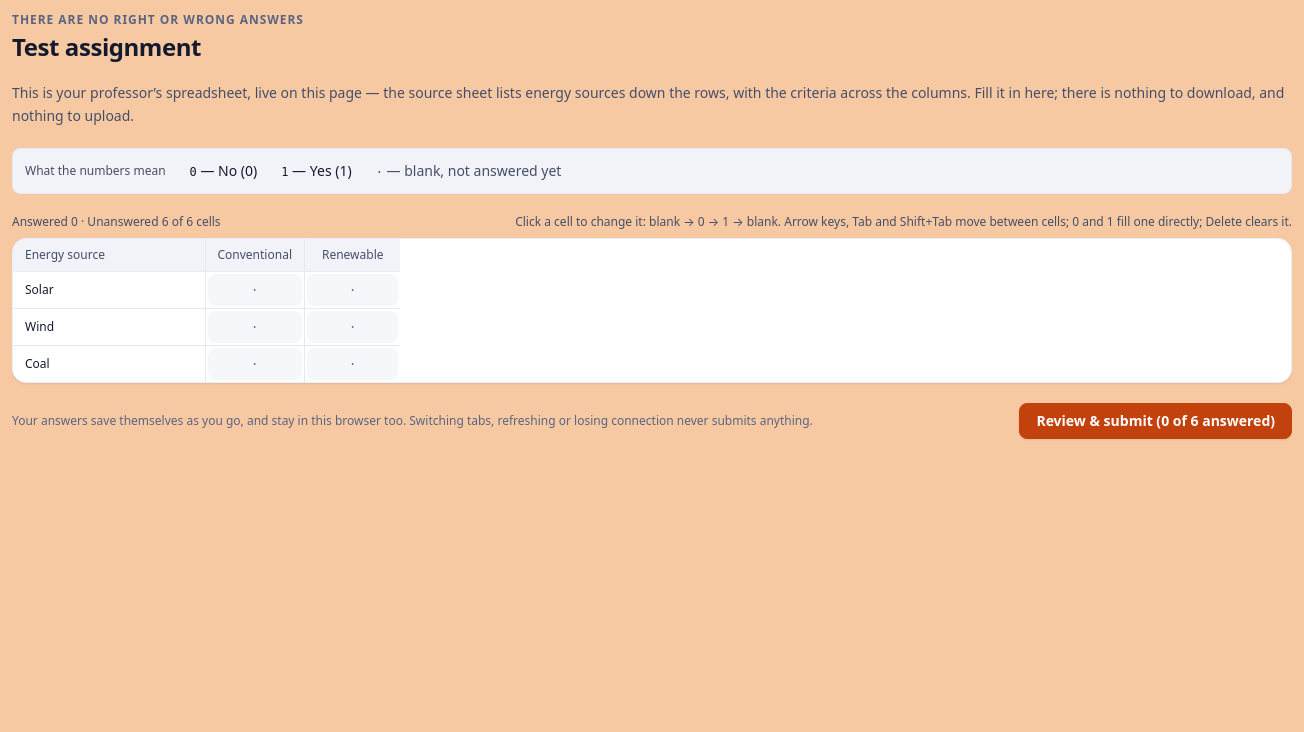
terminal failures › DRAFT_LOCKED stops retrying at once and says what happened
Click the button named "Solar — Conventional" at (255, 290), box [208,274,302,306]
Wait 120800 ms
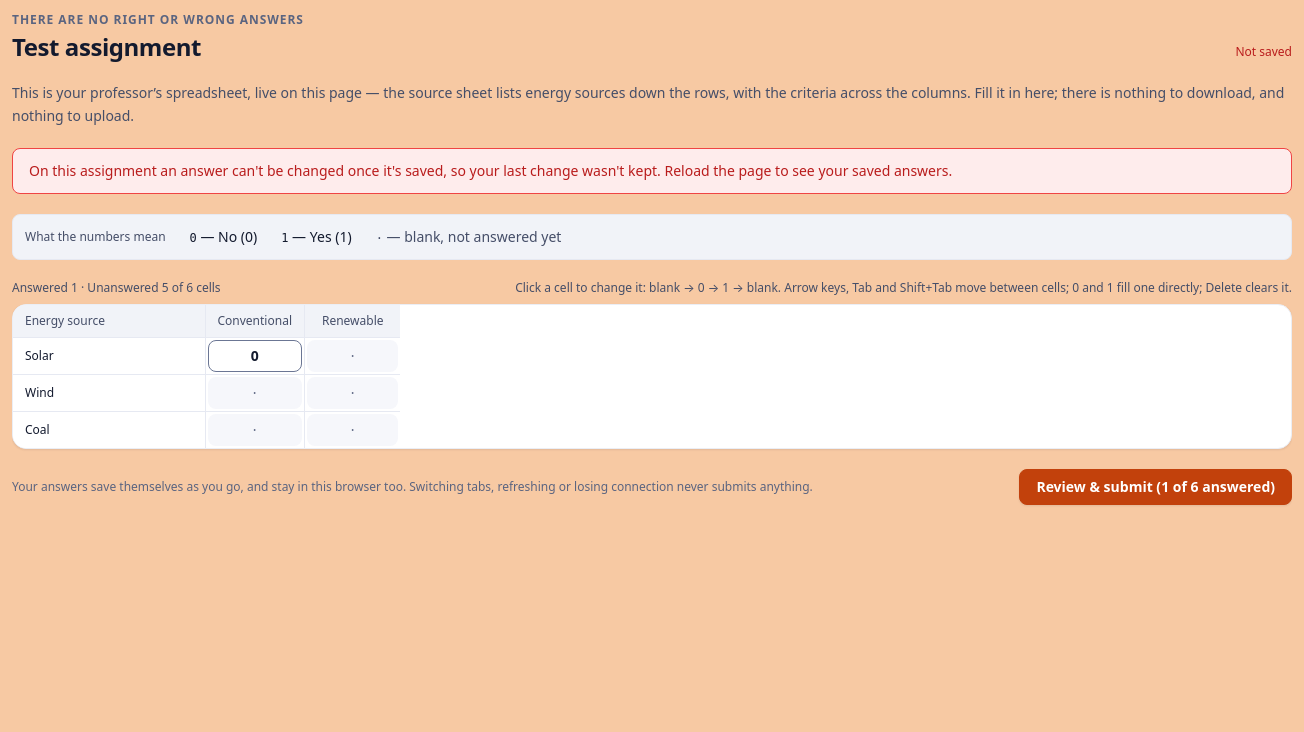
Now the 2nd message shows "can.t be changed once it.s saved", box [29,160,952,180]
